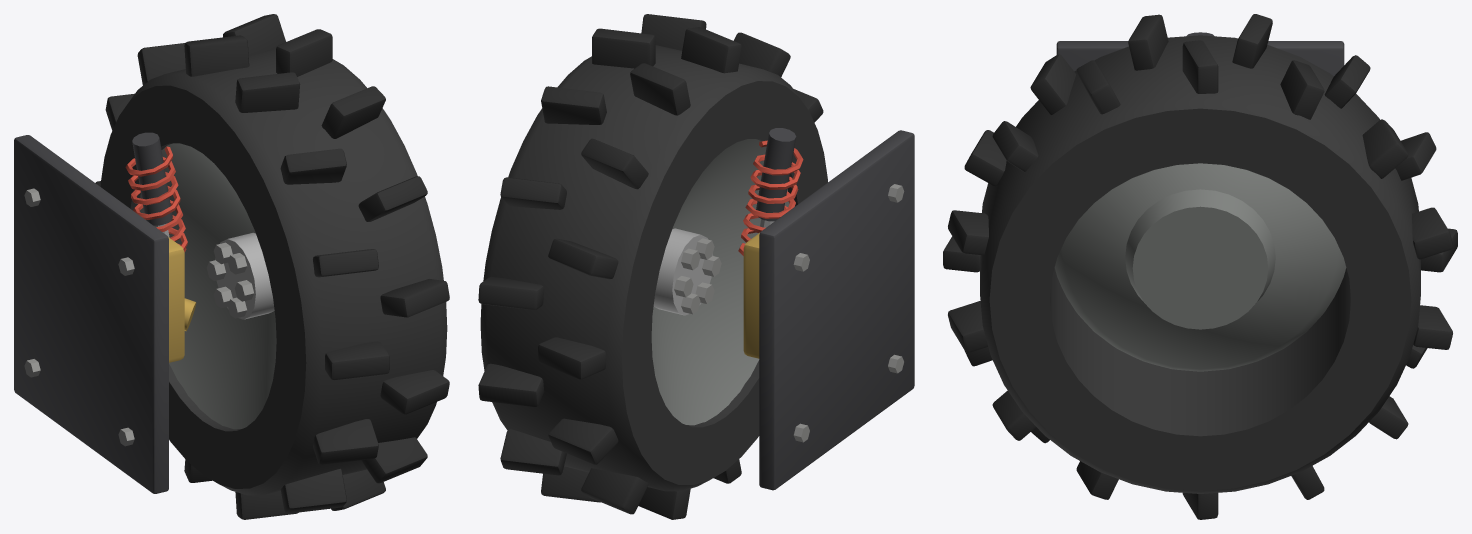
Rendered from wheel_s.glb.
The picture shows the model from 3 angles, left to right: view 1: azimuth 30°, elevation 25°; view 2: azimuth 150°, elevation 25°; view 3: azimuth 270°, elevation 25°; orthographic projection. The views are drawn at different scales.
Parts seen in each view (by area): view 1: Wheel, Part; view 2: Wheel, Part; view 3: Wheel, Part.
Boxes of the visible parts, bbox=[...] form: Wheel: bbox=[95, 14, 449, 519]; Part: bbox=[14, 132, 196, 493]; Wheel: bbox=[478, 14, 827, 519]; Part: bbox=[738, 128, 914, 490]; Wheel: bbox=[943, 14, 1457, 519]; Part: bbox=[1056, 32, 1344, 75].
Bounding box in the file's own units: 0.494 × 0.7858 × 0.8054.
